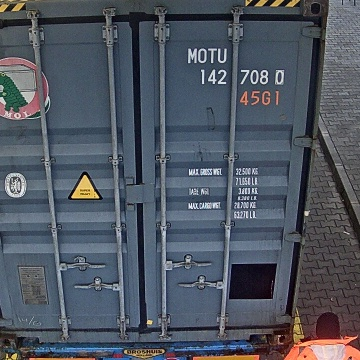serial_id: (187, 47, 285, 85)
